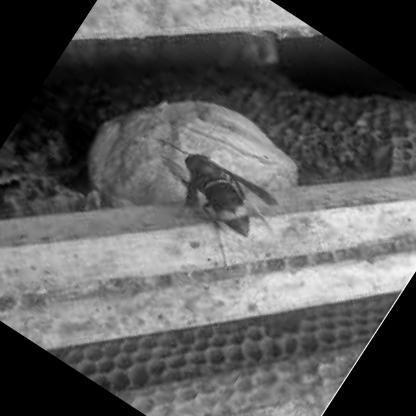asian: (138, 132, 308, 290)
